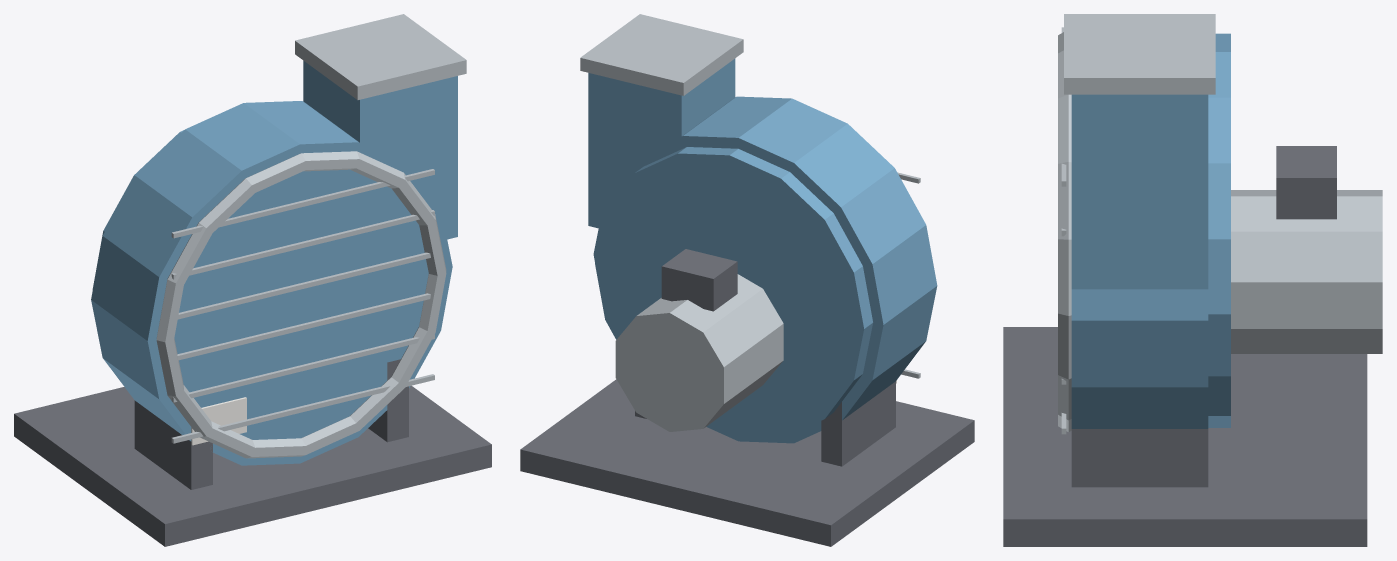
File: BlowerUnit.fbx
The picture shows the model from 3 angles, left to right: view 1: azimuth 30°, elevation 25°; view 2: azimuth 150°, elevation 25°; view 3: azimuth 270°, elevation 25°; orthographic projection. The views are drawn at different scales.
Visible parts, largest first — view 1: BlowerUnit; view 2: BlowerUnit; view 3: BlowerUnit.
Boxes of the visible parts, bbox=[...] form: BlowerUnit: bbox=[14, 14, 491, 546]; BlowerUnit: bbox=[520, 14, 974, 546]; BlowerUnit: bbox=[1003, 14, 1382, 546].
Size of the model in its own units: 3 by 3.41 by 2.5.
